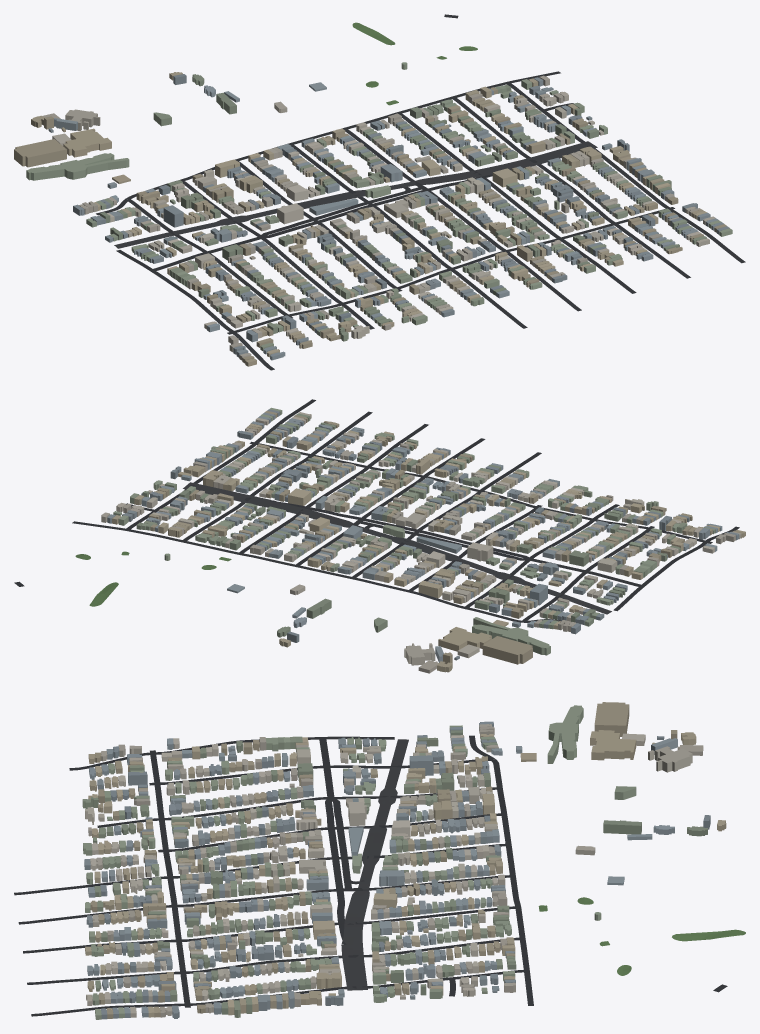
Rendered from tile_2_12.glb.
3 views of the same model, one above another, from view 1: azimuth 30°, elevation 25°; view 2: azimuth 150°, elevation 25°; view 3: azimuth 270°, elevation 25° (orthographic). The views are drawn at different scales.
Parts seen in each view (by area): view 1: bld_2_12, road_2_12; view 2: bld_2_12, road_2_12, grn_2_12; view 3: bld_2_12, road_2_12, grn_2_12.
Boxes of the visible parts, x1,y1,x2,y2 form: bld_2_12: (14, 62, 732, 366); road_2_12: (96, 14, 745, 370); bld_2_12: (101, 407, 745, 673); road_2_12: (14, 399, 739, 622); grn_2_12: (75, 551, 231, 606); bld_2_12: (82, 702, 726, 1019); road_2_12: (14, 735, 727, 1016); grn_2_12: (538, 897, 745, 975).
Bounding box in the file's own units: 856 × 81.62 × 918.
